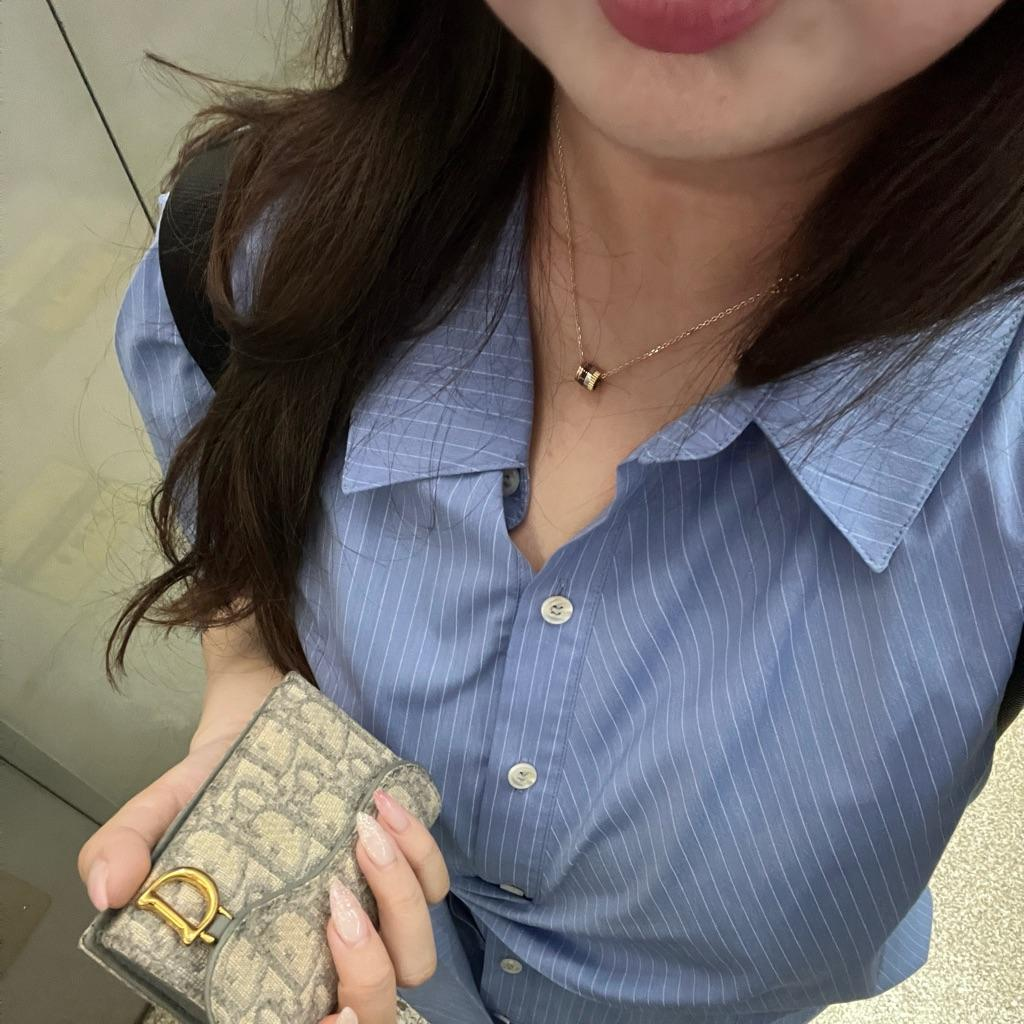nail: (326, 876, 368, 946), (353, 809, 396, 868), (371, 788, 409, 833), (86, 858, 109, 911)
